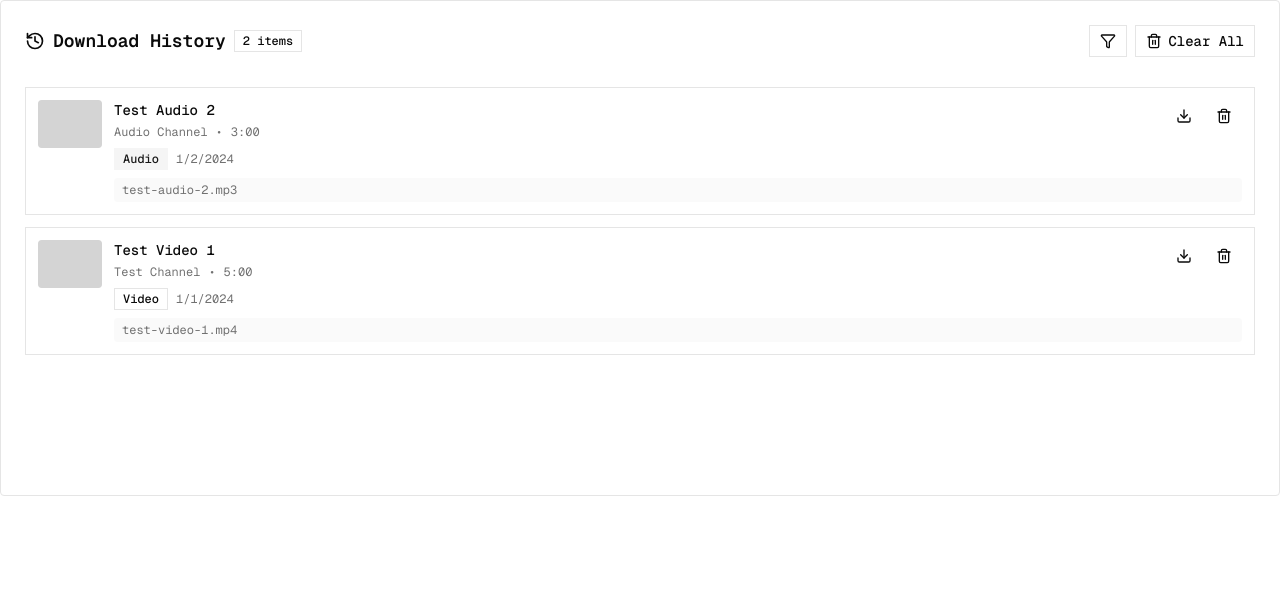
it: DownloadHistory › filters history by search query
Show filters
Click the button named "Toggle filters" at (1108, 41), box [1089, 25, 1127, 57]
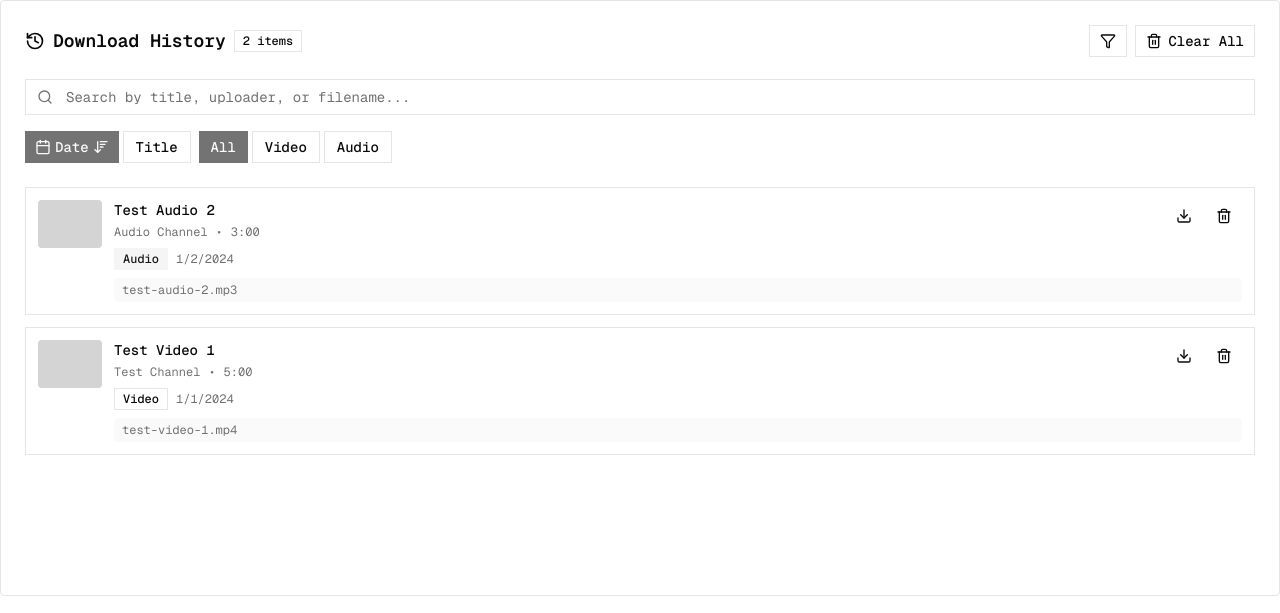
Search for specific video
Type "Test Video 1" into the field with placeholder "Search by title, uploader, or filename..." at (640, 97), box [25, 79, 1255, 115]
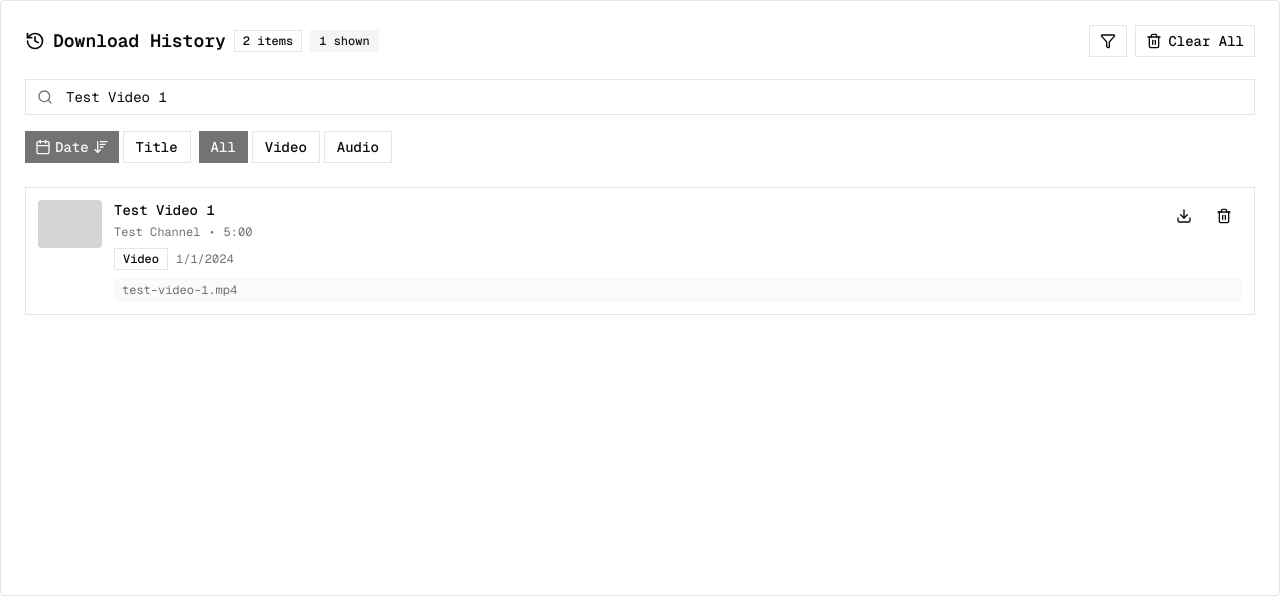
Expected: the heading "Test Video 1" is shown, [114, 201, 215, 219]
Expected: the heading "Test Audio 2" is gone
